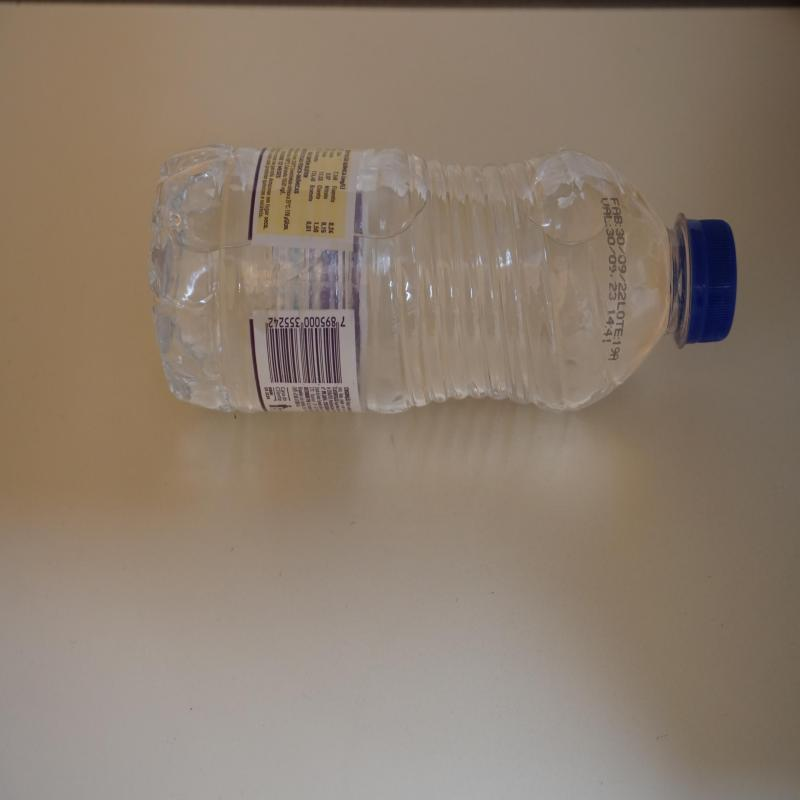Water: (150, 146, 741, 418)
